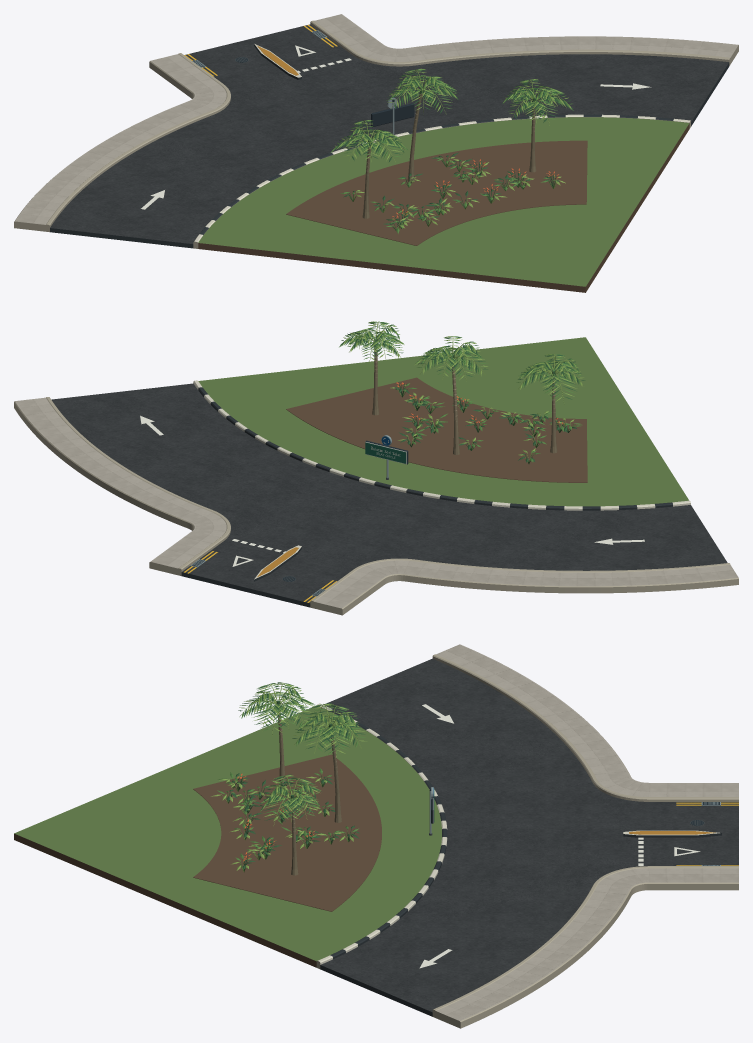
3 views of the same model, one above another, from view 1: azimuth 30°, elevation 25°; view 2: azimuth 150°, elevation 25°; view 3: azimuth 270°, elevation 25° (orthographic). The views are drawn at different scales.
Visible parts, largest first — view 1: Road Deck, Island Ground, Rain Garden Bed, Kerbs and Footways, Island Palms, Rain Garden Planting, Island Kerbs, Roundabout Signs, Road Markings, Splitter Island; view 2: Road Deck, Island Ground, Kerbs and Footways, Rain Garden Bed, Island Palms, Island Kerbs, Rain Garden Planting, Roundabout Signs, Road Markings; view 3: Road Deck, Island Ground, Kerbs and Footways, Rain Garden Bed, Island Palms, Rain Garden Planting, Island Kerbs, Road Markings, Splitter Island.
Boxes of the visible parts, <box> form: Road Deck: <box>50,24,729,248</box>; Island Ground: <box>198,117,689,292</box>; Rain Garden Bed: <box>286,140,587,245</box>; Kerbs and Footways: <box>14,14,738,232</box>; Island Palms: <box>330,68,573,218</box>; Rain Garden Planting: <box>340,152,565,233</box>; Island Kerbs: <box>193,114,690,248</box>; Roundabout Signs: <box>371,97,414,134</box>; Road Markings: <box>141,24,651,209</box>; Splitter Island: <box>254,43,301,79</box>; Road Deck: <box>51,383,727,607</box>; Island Ground: <box>198,337,688,506</box>; Kerbs and Footways: <box>14,397,738,615</box>; Rain Garden Bed: <box>286,377,587,482</box>; Island Palms: <box>339,321,585,454</box>; Island Kerbs: <box>193,380,690,510</box>; Rain Garden Planting: <box>390,382,582,463</box>; Roundabout Signs: <box>365,435,408,479</box>; Road Markings: <box>140,415,644,602</box>; Road Deck: <box>320,658,738,1016</box>; Island Ground: <box>14,706,441,967</box>; Kerbs and Footways: <box>432,644,738,1028</box>; Rain Garden Bed: <box>193,754,381,911</box>; Island Palms: <box>238,682,366,875</box>; Rain Garden Planting: <box>211,768,359,872</box>; Island Kerbs: <box>316,703,447,968</box>; Road Markings: <box>419,704,738,968</box>; Splitter Island: <box>623,830,721,837</box>.
Bounding box in the file's own units: 39.42 × 5.92 × 32.
23 materials, 2 textured.
